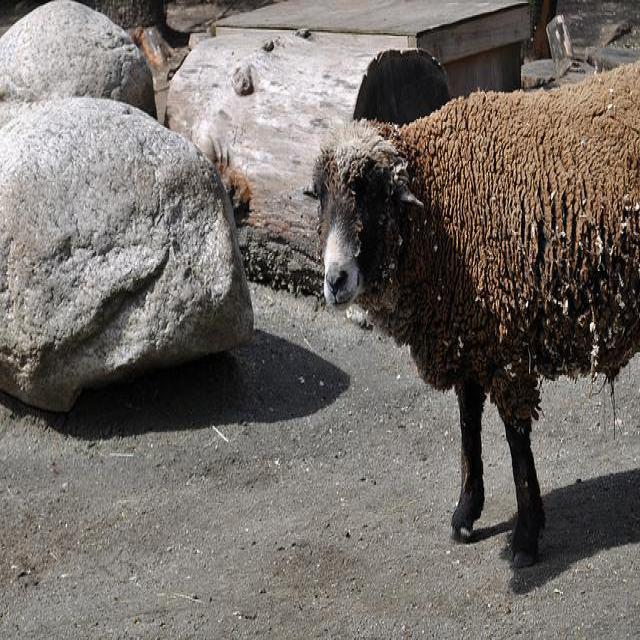Sheep: (307, 64, 636, 570)
